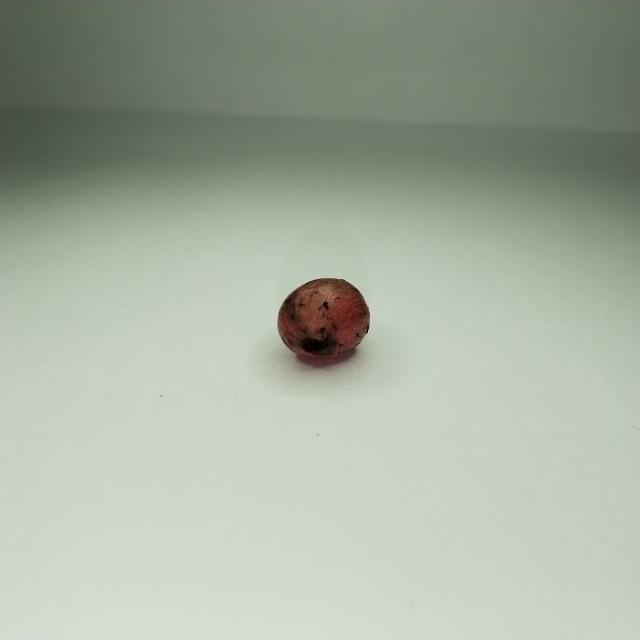Infectado: (277, 278, 369, 365)
